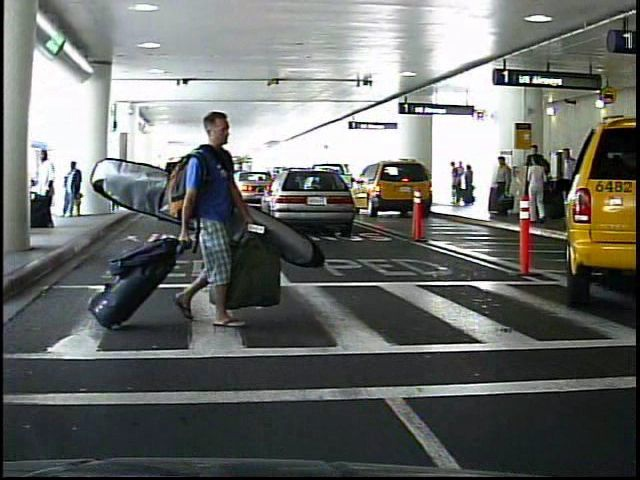person: (177, 102, 264, 349), (28, 148, 59, 231), (525, 143, 547, 219), (62, 157, 87, 222), (491, 157, 514, 220), (528, 155, 549, 224), (447, 160, 461, 208), (558, 145, 574, 184), (454, 161, 466, 208), (463, 162, 475, 206)
